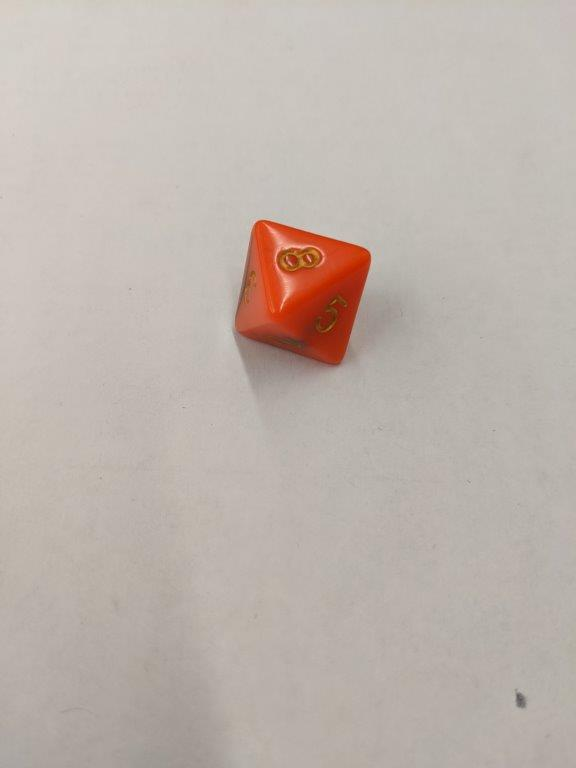d8-8: (238, 220, 375, 373)
